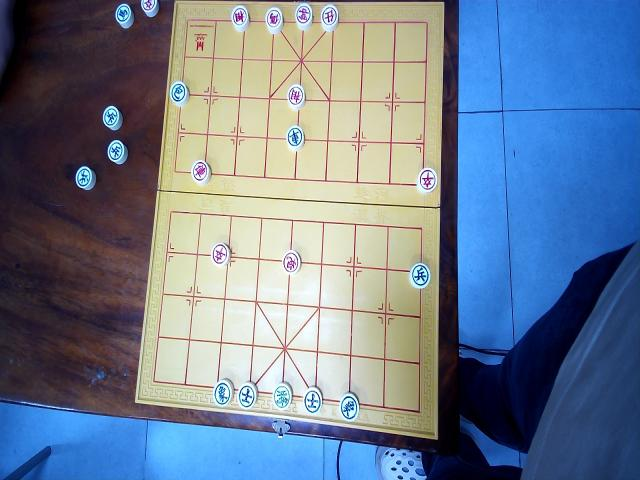piece: (416, 166, 438, 193), (339, 392, 359, 421), (302, 386, 322, 414), (237, 381, 257, 409), (213, 378, 233, 406), (410, 261, 430, 289), (286, 83, 306, 110), (281, 249, 301, 276), (230, 4, 250, 31), (114, 2, 134, 29), (320, 3, 338, 32), (210, 241, 230, 267), (190, 160, 210, 186), (272, 382, 291, 409), (170, 79, 189, 106), (264, 6, 282, 34), (75, 165, 95, 190), (286, 124, 304, 150), (295, 3, 312, 30), (140, 0, 158, 18)
